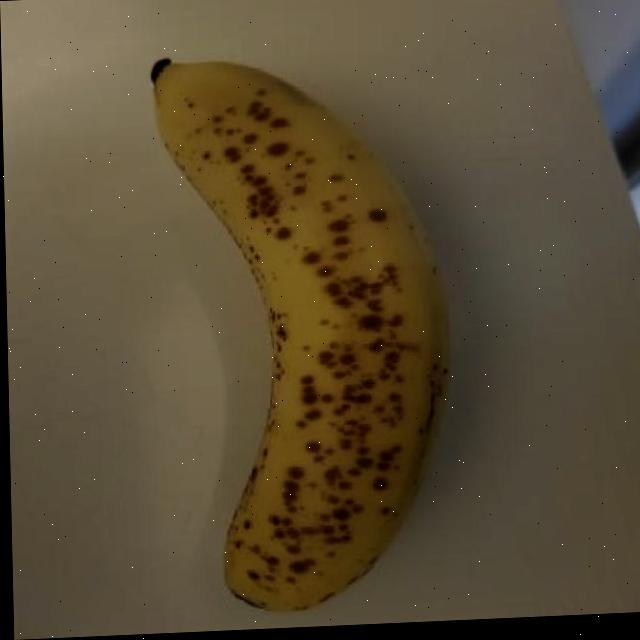banana: (145, 41, 456, 619)
